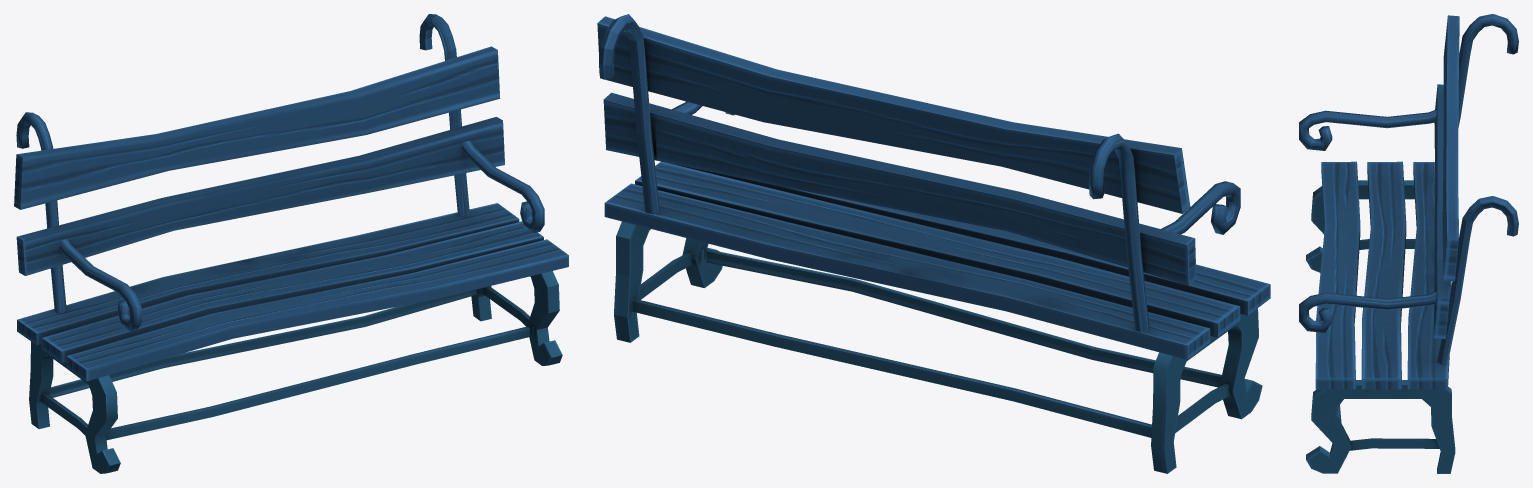
File: Bench.FBX
The picture shows the model from 3 angles, left to right: view 1: azimuth 30°, elevation 25°; view 2: azimuth 150°, elevation 25°; view 3: azimuth 270°, elevation 25°; orthographic projection. The views are drawn at different scales.
Parts seen in each view (by area): view 1: Bench; view 2: Bench; view 3: Bench.
Part boxes in pixels (bbox=[...]): Bench: bbox=[14, 14, 568, 473]; Bench: bbox=[597, 14, 1270, 473]; Bench: bbox=[1299, 14, 1518, 473].
Bounding box in the file's own units: 78.47 × 44.99 × 33.64.
